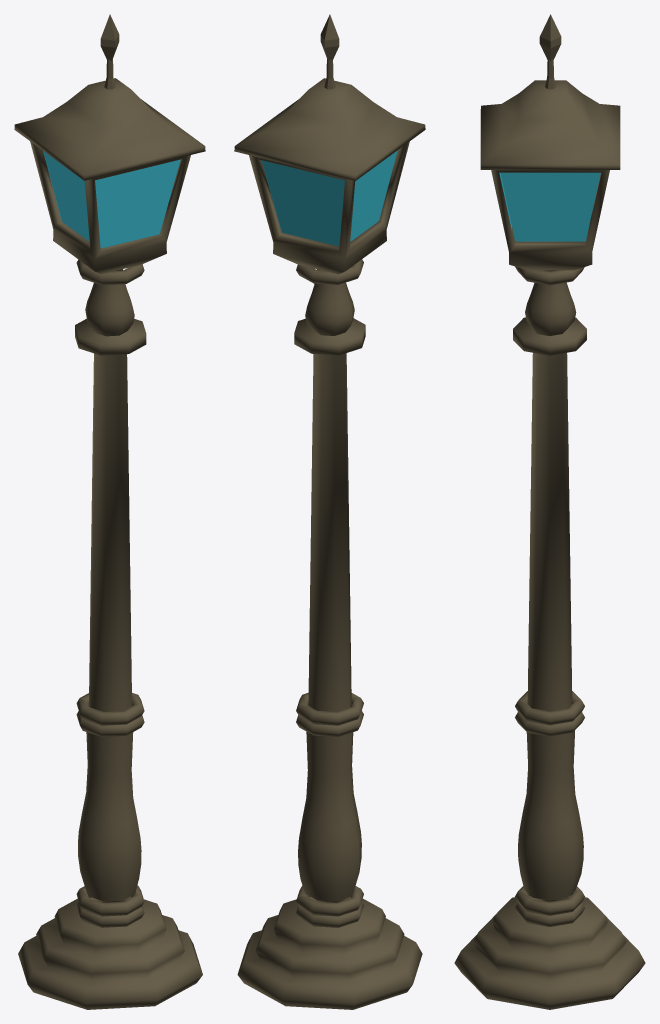
File: lamppost_9ec5bdd5.glb
The picture shows the model from 3 angles, left to right: view 1: azimuth 30°, elevation 25°; view 2: azimuth 150°, elevation 25°; view 3: azimuth 270°, elevation 25°; orthographic projection.
Parts seen in each view (by area): view 1: Cube.002; view 2: Cube.002; view 3: Cube.002.
Part boxes in pixels (x1,y1,x2,y2): Cube.002: [14, 14, 205, 1009]; Cube.002: [234, 14, 425, 1009]; Cube.002: [454, 14, 645, 1009].
Size of the model in its own units: 194 by 1070 by 194.
